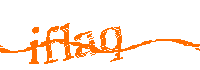a: (73, 29, 97, 58)
f: (42, 21, 60, 67)
i: (29, 26, 40, 65)
l: (61, 21, 74, 61)
q: (100, 23, 125, 63)
